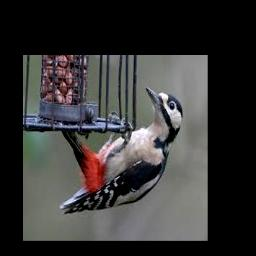Woodpecker: (60, 87, 183, 215)
